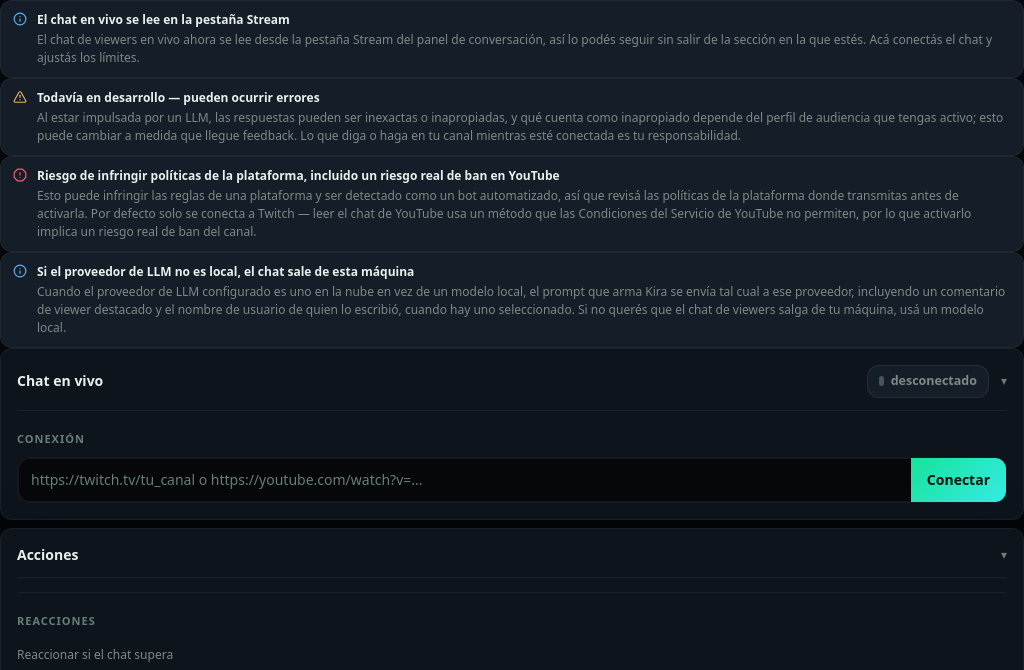
Test: StreamPanel › surfaces a connect error honestly instead of faking conectado
Expected: the text "desconectado" is shown, [867,365,989,398]
In the field named "URL del directo": (464, 480) [18,458,911,502], type "https://twitch.tv/kira"
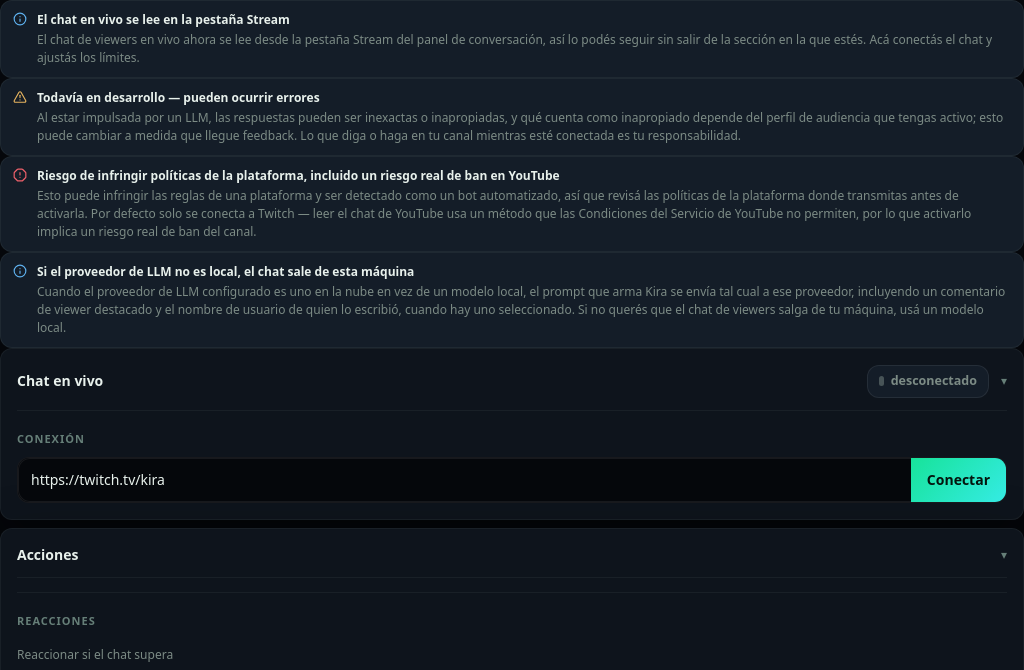
Click the button "Conectar": (958, 480) [911,458,1006,502]
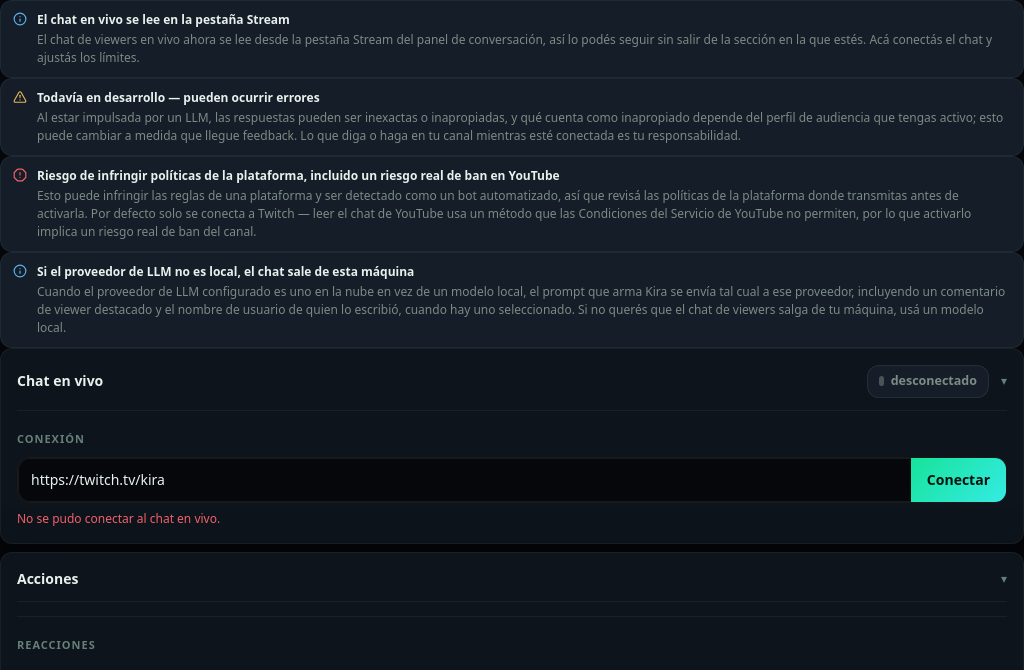
Expected: the text "desconectado" is shown, [867,365,989,398]
Result: the message "No se pudo conectar al chat en vivo." is shown at [17,510,220,527]
